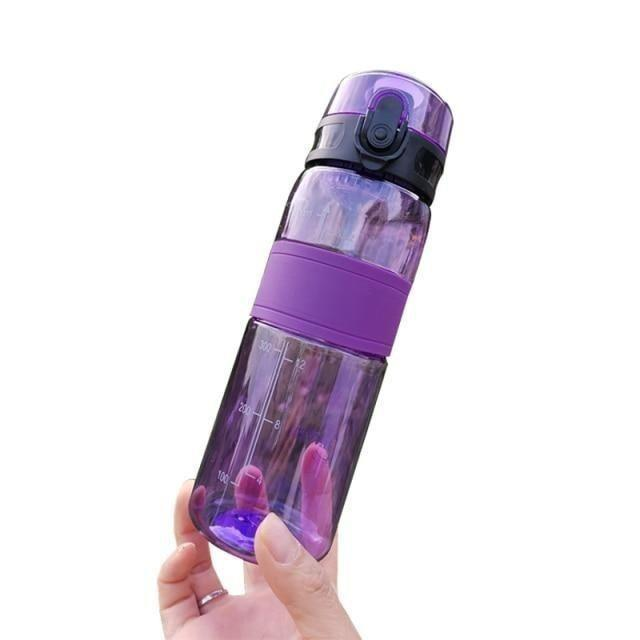gym bottle: (187, 62, 455, 569)
